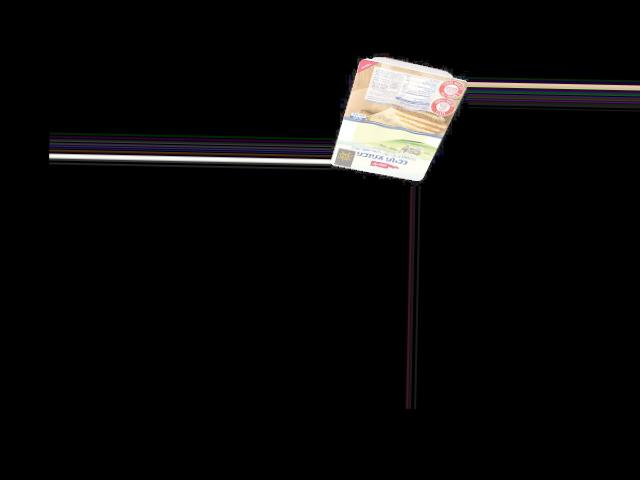cheese: (342, 58, 447, 180)
